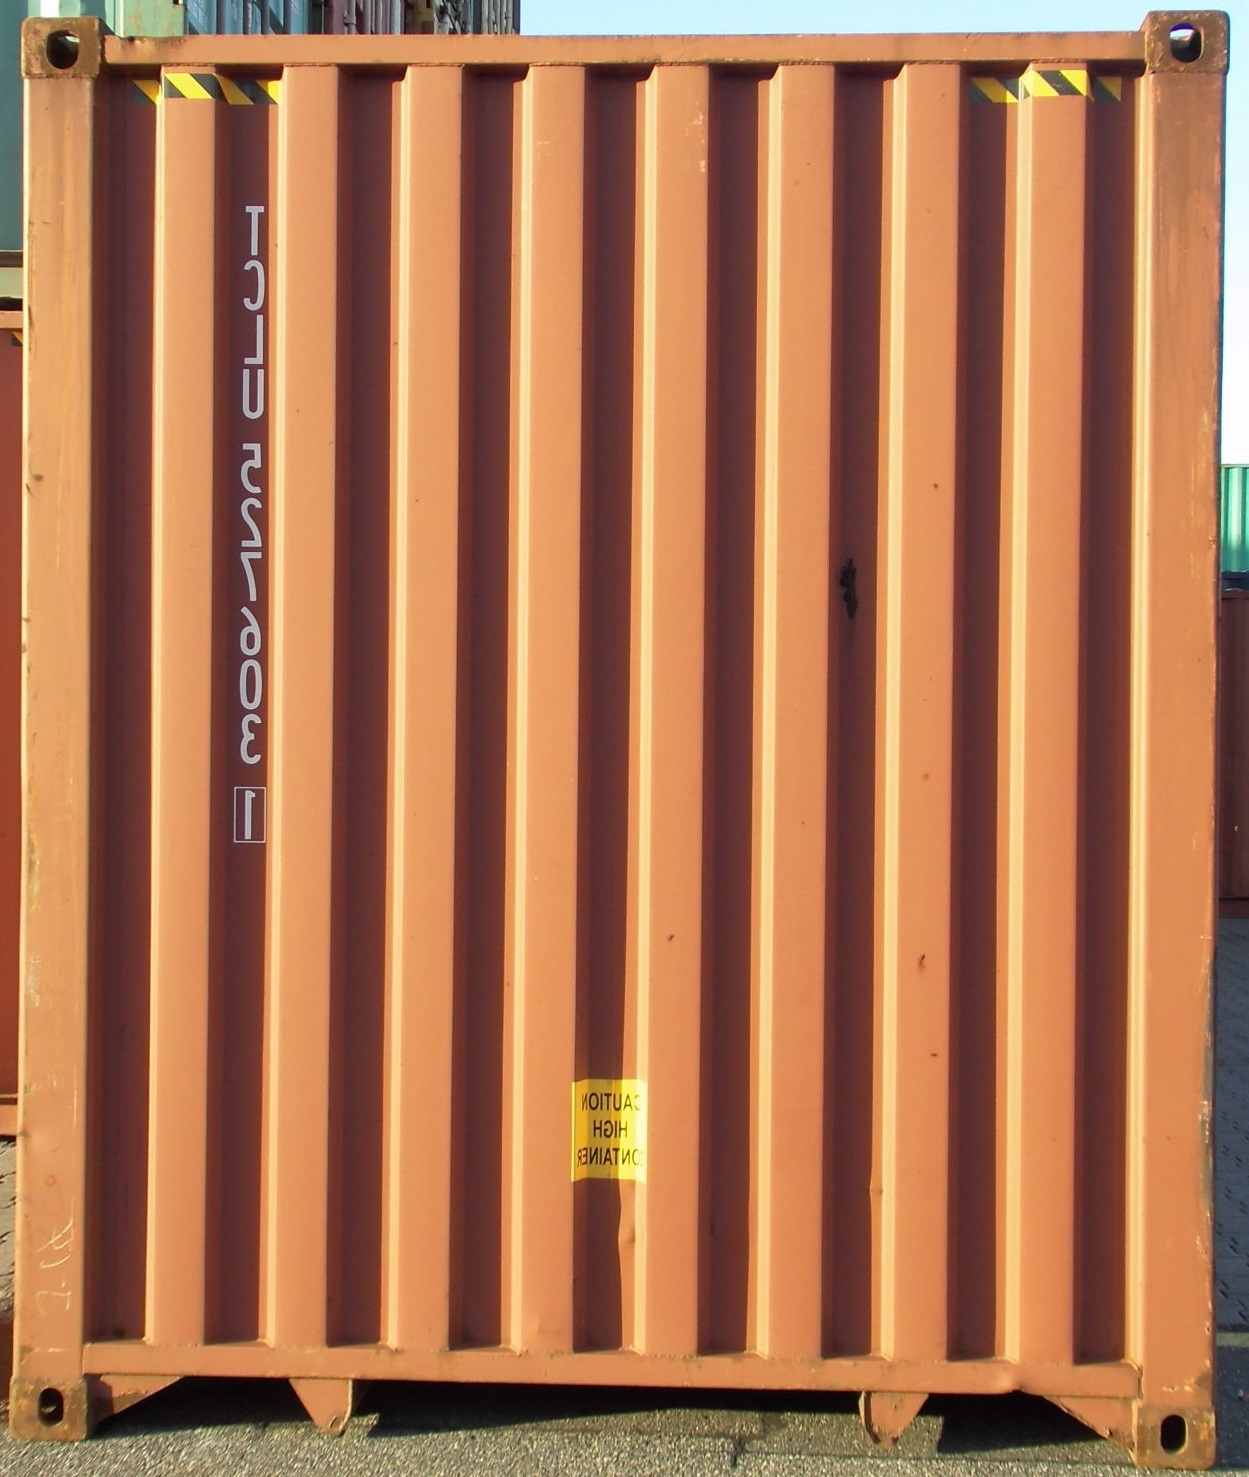container_no_door: (17, 12, 1225, 1467)
